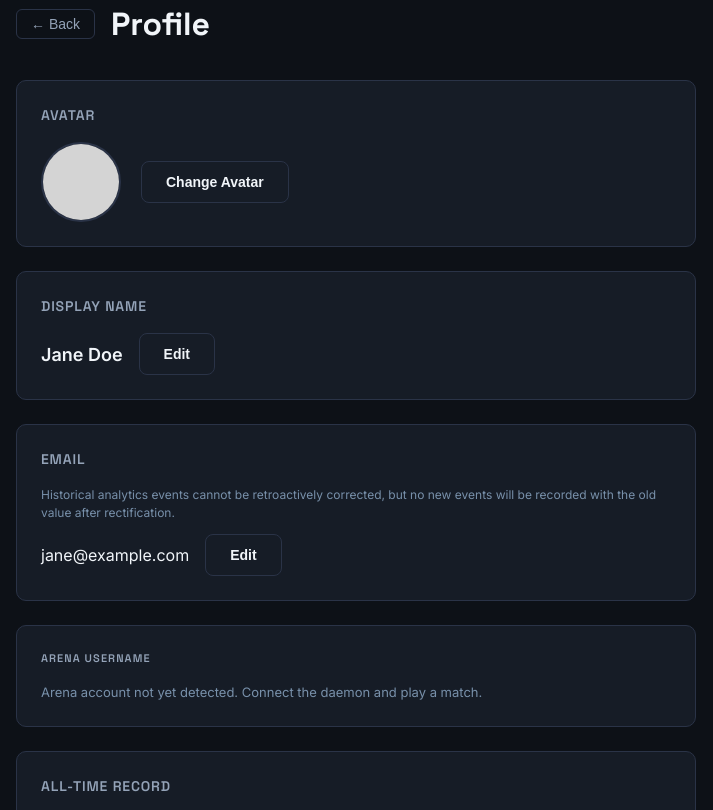
Test: Profile — email entry step (pending) › clicking Edit Email shows the new-email input
Click the button with test id "profile-edit-email-button" at (243, 555), box [205,534,282,576]
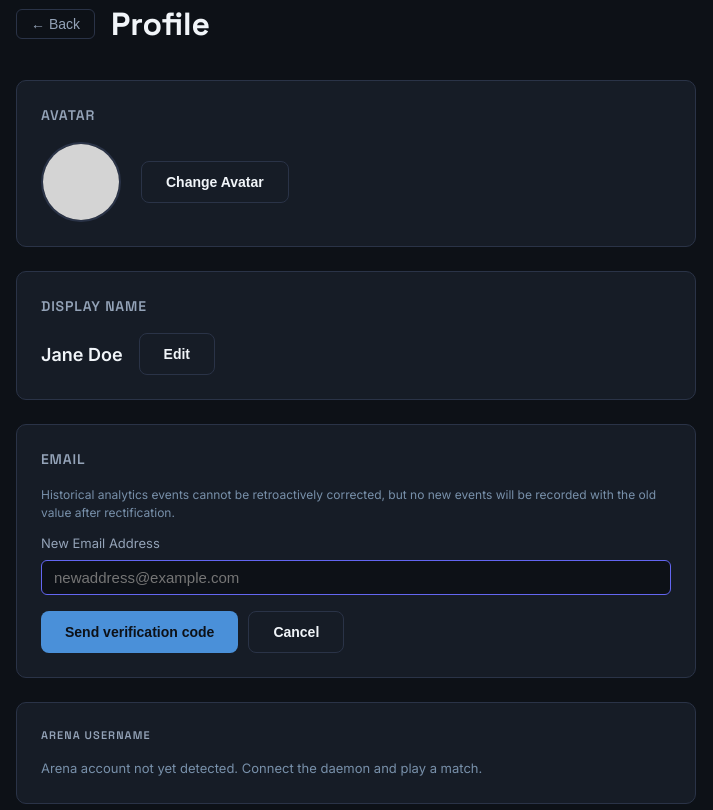
Now the field with test id "profile-email-input" is shown, box [41,560,671,594]
